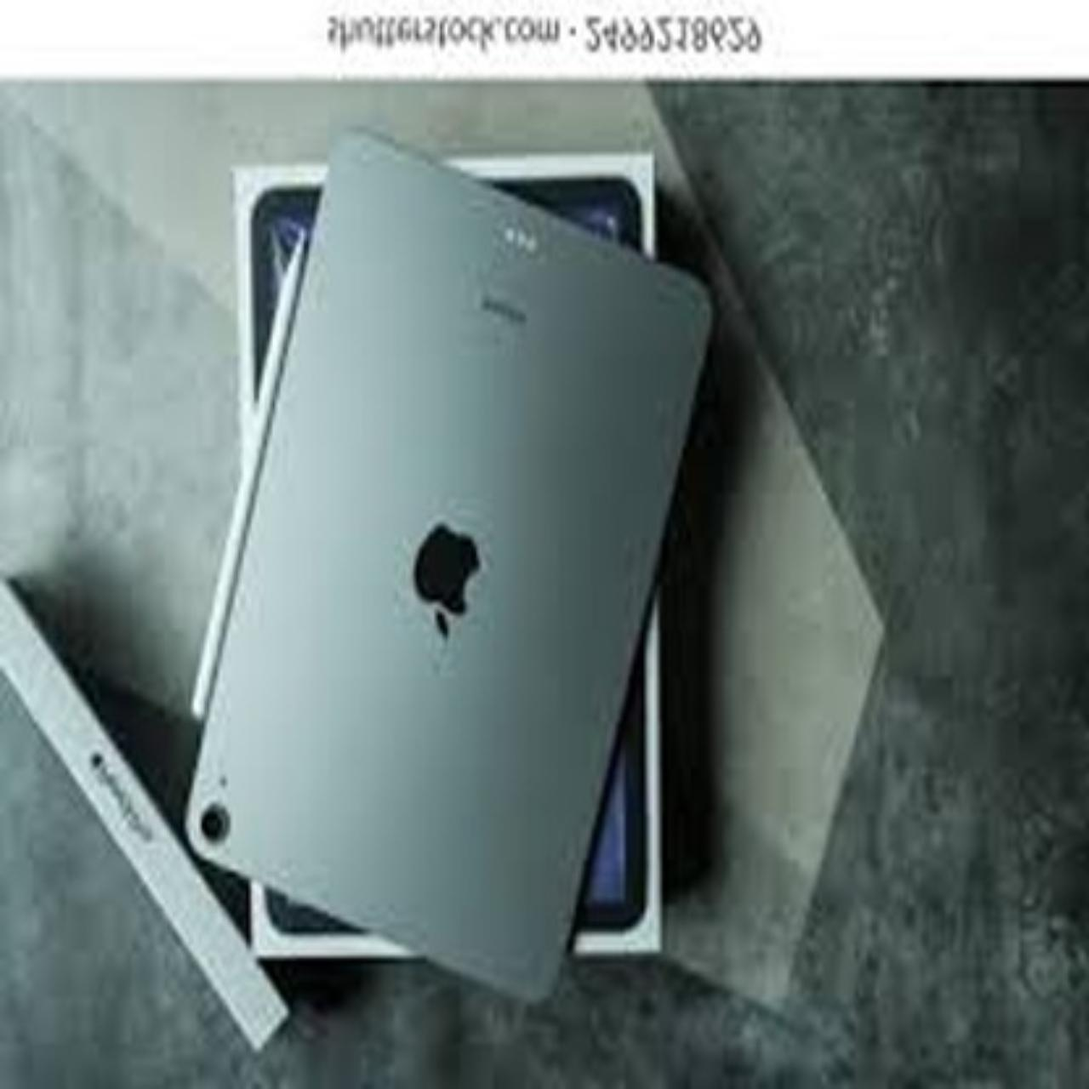Tablet_PC: (160, 118, 759, 1010)
